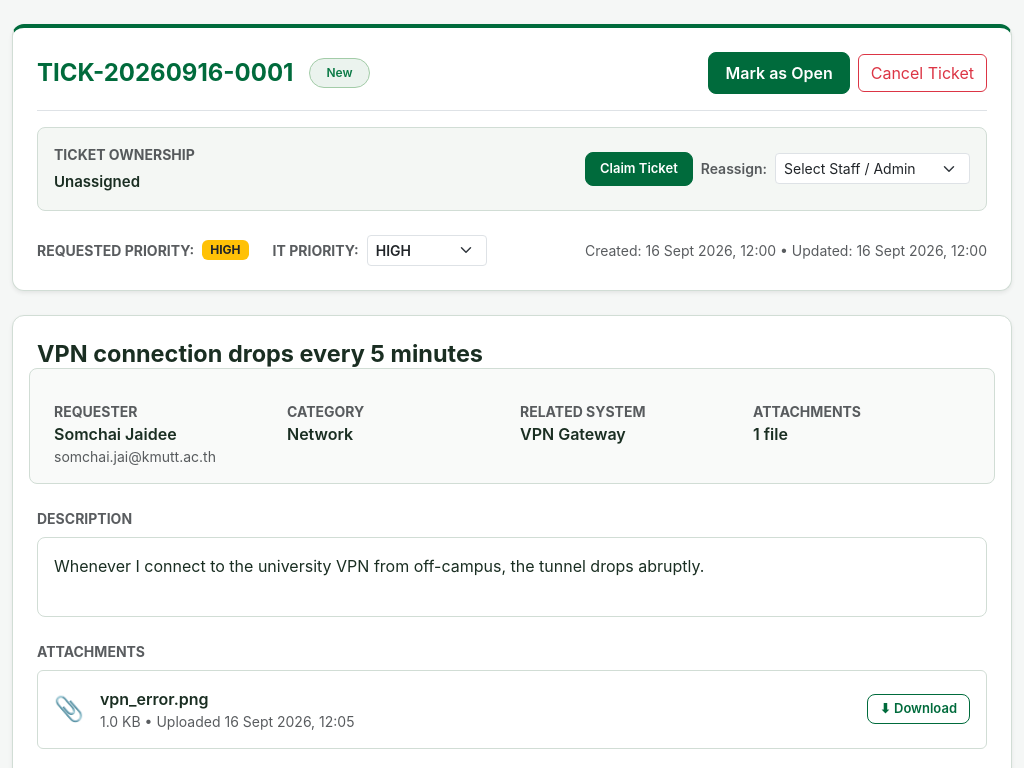
Test: StaffTicketDetail Component UI Tests (DETAIL-UI-01) › Status Workflow Action Bar (All 8 Statuses per ui-spec.md §3.5) › transitions ticket status when a transition button is clicked
The image size is (1024, 768).
Click the button "Mark as Open": coordinates (779, 73) [708, 52, 850, 94]
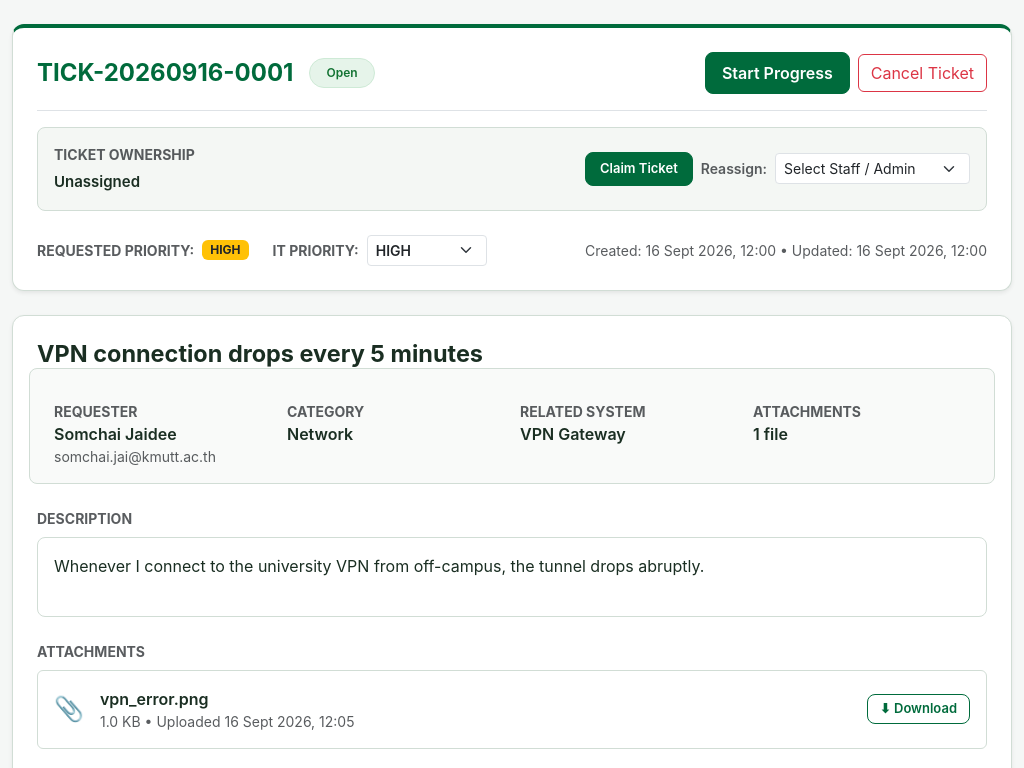
Expected: the text with test id "status-badge" reads "Open", [326, 65, 358, 80]
